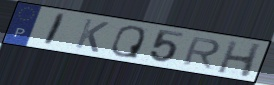5: (149, 28, 188, 64)
H: (215, 39, 264, 80)
I: (40, 12, 69, 48)
K: (72, 17, 111, 55)
Q: (109, 25, 147, 61)
R: (179, 36, 223, 71)
